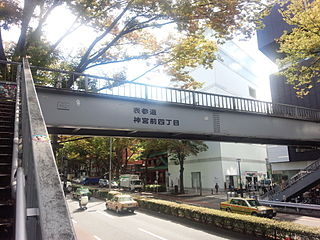bridge: (30, 65, 320, 145)
